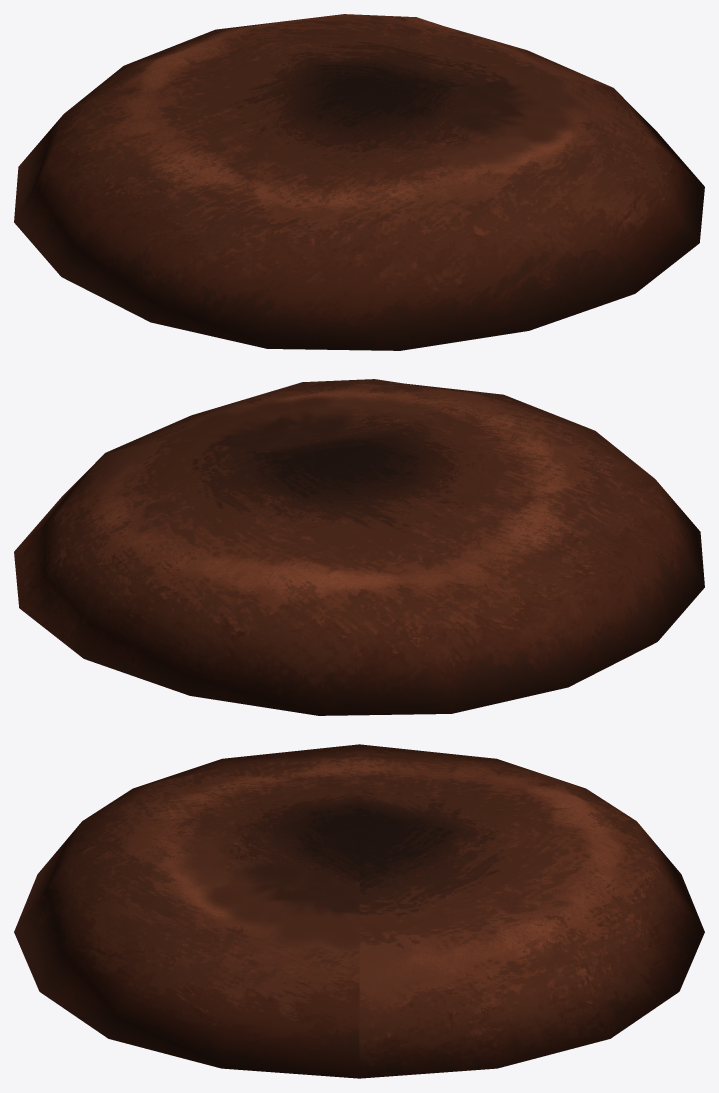
Rendered from Dirt Mound.fbx.
The picture shows the model from 3 angles, top to bottom: view 1: azimuth 30°, elevation 25°; view 2: azimuth 150°, elevation 25°; view 3: azimuth 270°, elevation 25°; orthographic projection.
Visible parts, largest first — view 1: DirtMound; view 2: DirtMound; view 3: DirtMound.
Boxes of the visible parts, x1=… form: DirtMound: x1=14, y1=14, x2=704, y2=350; DirtMound: x1=14, y1=379, x2=704, y2=715; DirtMound: x1=14, y1=744, x2=704, y2=1078.
Bounding box in the file's own units: 83.81 × 15.25 × 83.46.
